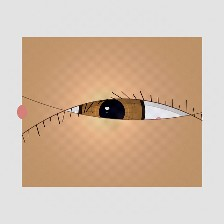hemorrhage_spot: (115, 103, 181, 156)
